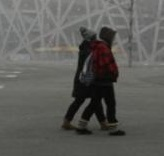person: (62, 25, 115, 130), (78, 26, 127, 136)
